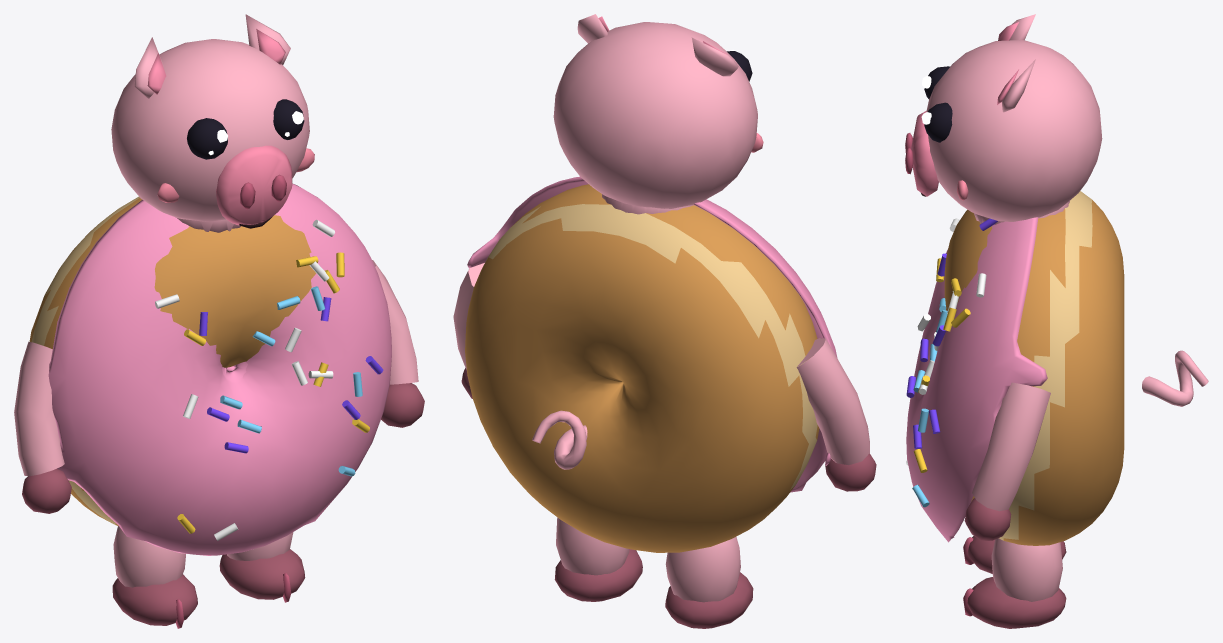
The model's file is pilot_gris2_smultring_lav.glb.
3 renders of one model, left to right at view 1: azimuth 30°, elevation 25°; view 2: azimuth 150°, elevation 25°; view 3: azimuth 270°, elevation 25°, orthographic. The views are drawn at different scales.
Parts seen in each view (by area): view 1: kropp, hode, vinge_v, bein_vf, bein_hf, vinge_h; view 2: kropp, hode, vinge_v, bein_vf, bein_hf, hale, vinge_h; view 3: kropp, hode, vinge_h, bein_hf, hale, bein_vf.
Part boxes in pixels (x1,y1,x2,y2): kropp: (29, 183, 391, 555); hode: (111, 14, 314, 232); vinge_v: (14, 341, 71, 513); bein_vf: (112, 526, 197, 628); bein_hf: (219, 532, 305, 602); vinge_h: (372, 260, 424, 427); kropp: (465, 176, 837, 552); hode: (553, 14, 763, 214); vinge_v: (796, 338, 876, 491); bein_vf: (665, 537, 753, 628); bein_hf: (554, 517, 642, 601); hale: (532, 410, 587, 469); vinge_h: (453, 263, 484, 398); kropp: (906, 191, 1124, 545); hode: (905, 14, 1102, 224); vinge_h: (964, 382, 1050, 540); bein_hf: (963, 538, 1066, 628); hale: (1142, 350, 1208, 406); bein_vf: (963, 536, 1066, 573).
Bounding box in the file's own units: 1.26 × 1.74 × 0.8502.
